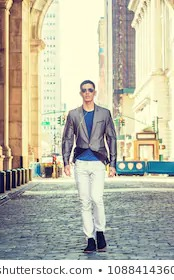F_M_suit jacket: (56, 101, 125, 173)
